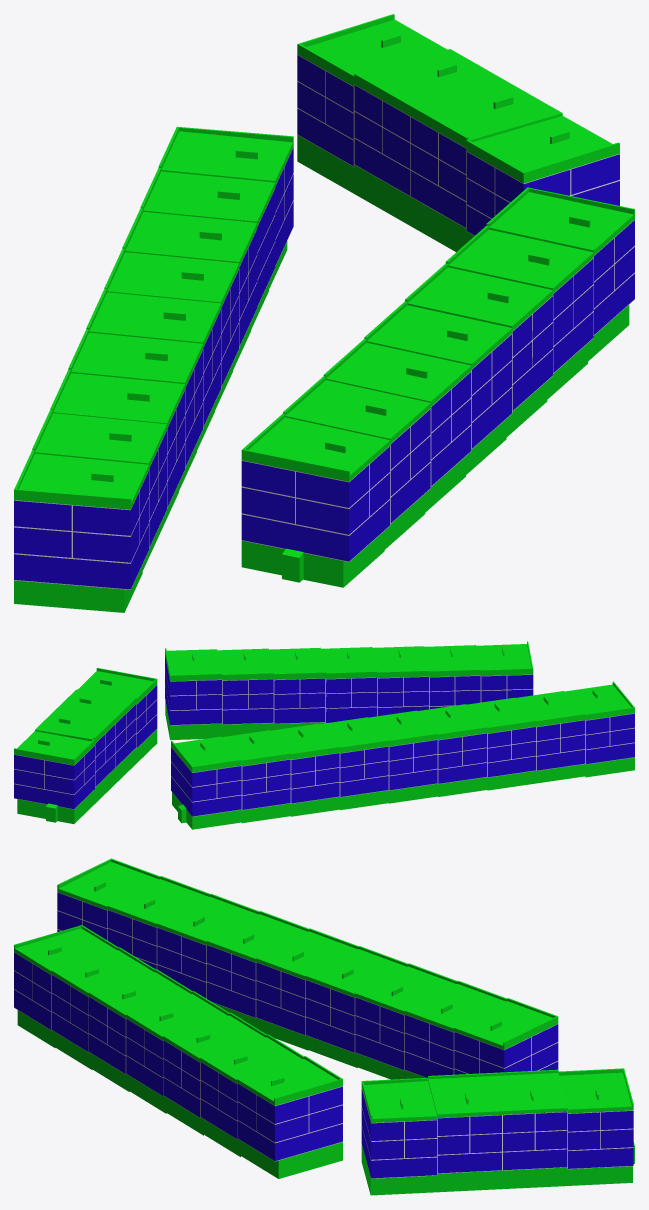
Rendered from Buildings_2.glb.
3 views of the same model, one above another, from view 1: azimuth 30°, elevation 25°; view 2: azimuth 150°, elevation 25°; view 3: azimuth 270°, elevation 25° (orthographic). The views are drawn at different scales.
Visible parts, largest first — view 1: SM_Building_1_Walls_01, SM_Building_3_Walls_01, SM_Building_2_Walls_01, SM_Building_3_Part_33, SM_Building_1_Part_43, SM_Building_3_Devider_01, SM_Building_1_Devider_01, SM_Building_2_Devider_01, SM_Building_3_Part_37, SM_Building_3_Part_36, SM_Building_1_Part_47, SM_Building_1_Part_46 (+15 smaller); view 2: SM_Building_1_Walls_01, SM_Building_3_Walls_01, SM_Building_2_Walls_01, SM_Building_1_Devider_01, SM_Building_3_Devider_01, SM_Building_2_Part_03, SM_Building_1_Part_03, SM_Building_2_Devider_01, SM_Building_3_Part_03, SM_Building_3_Part_08, SM_Building_3_Part_13, SM_Building_1_Part_43 (+78 smaller); view 3: SM_Building_1_Walls_01, SM_Building_3_Walls_01, SM_Building_2_Walls_01, SM_Building_1_Devider_01, SM_Building_3_Devider_01, SM_Building_3_Part_03, SM_Building_2_Devider_01, SM_Building_2_Part_18, SM_Building_2_Part_03, SM_Building_2_Part_32, SM_Building_2_Part_27, SM_Building_3_Part_68 (+36 smaller).
Part boxes in pixels (left/top/right/bottom): SM_Building_1_Walls_01: left=14, top=126, right=293, bottom=612; SM_Building_3_Walls_01: left=241, top=187, right=634, bottom=587; SM_Building_2_Walls_01: left=297, top=14, right=619, bottom=252; SM_Building_3_Part_33: left=241, top=500, right=389, bottom=561; SM_Building_1_Part_43: left=14, top=525, right=148, bottom=589; SM_Building_3_Devider_01: left=241, top=219, right=634, bottom=561; SM_Building_1_Devider_01: left=14, top=147, right=293, bottom=589; SM_Building_2_Devider_01: left=297, top=54, right=619, bottom=235; SM_Building_3_Part_37: left=296, top=491, right=369, bottom=534; SM_Building_3_Part_36: left=296, top=465, right=369, bottom=507; SM_Building_1_Part_47: left=73, top=518, right=139, bottom=562; SM_Building_1_Part_46: left=73, top=491, right=139, bottom=535; SM_Building_1_Walls_01: left=171, top=681, right=634, bottom=829; SM_Building_3_Walls_01: left=165, top=641, right=533, bottom=740; SM_Building_2_Walls_01: left=14, top=668, right=157, bottom=823; SM_Building_1_Devider_01: left=171, top=713, right=634, bottom=816; SM_Building_3_Devider_01: left=165, top=671, right=532, bottom=725; SM_Building_2_Part_03: left=14, top=775, right=94, bottom=808; SM_Building_1_Part_03: left=171, top=777, right=241, bottom=816; SM_Building_2_Devider_01: left=14, top=685, right=157, bottom=809; SM_Building_3_Part_03: left=165, top=684, right=221, bottom=725; SM_Building_3_Part_08: left=222, top=708, right=273, bottom=724; SM_Building_3_Part_13: left=274, top=708, right=325, bottom=723; SM_Building_1_Part_43: left=585, top=743, right=634, bottom=764; SM_Building_1_Walls_01: left=57, top=858, right=558, bottom=1079; SM_Building_3_Walls_01: left=14, top=925, right=342, bottom=1178; SM_Building_2_Walls_01: left=361, top=1068, right=634, bottom=1195; SM_Building_1_Devider_01: left=57, top=892, right=558, bottom=1077; SM_Building_3_Devider_01: left=14, top=952, right=342, bottom=1161; SM_Building_3_Part_03: left=237, top=1121, right=342, bottom=1160; SM_Building_2_Devider_01: left=361, top=1088, right=633, bottom=1178; SM_Building_2_Part_18: left=361, top=1126, right=436, bottom=1178; SM_Building_2_Part_03: left=568, top=1148, right=633, bottom=1168; SM_Building_2_Part_32: left=503, top=1149, right=567, bottom=1170; SM_Building_2_Part_27: left=437, top=1152, right=501, bottom=1173; SM_Building_3_Part_68: left=256, top=1113, right=308, bottom=1142.
Size of the model in its own units: 100 by 16.32 by 98.03.
